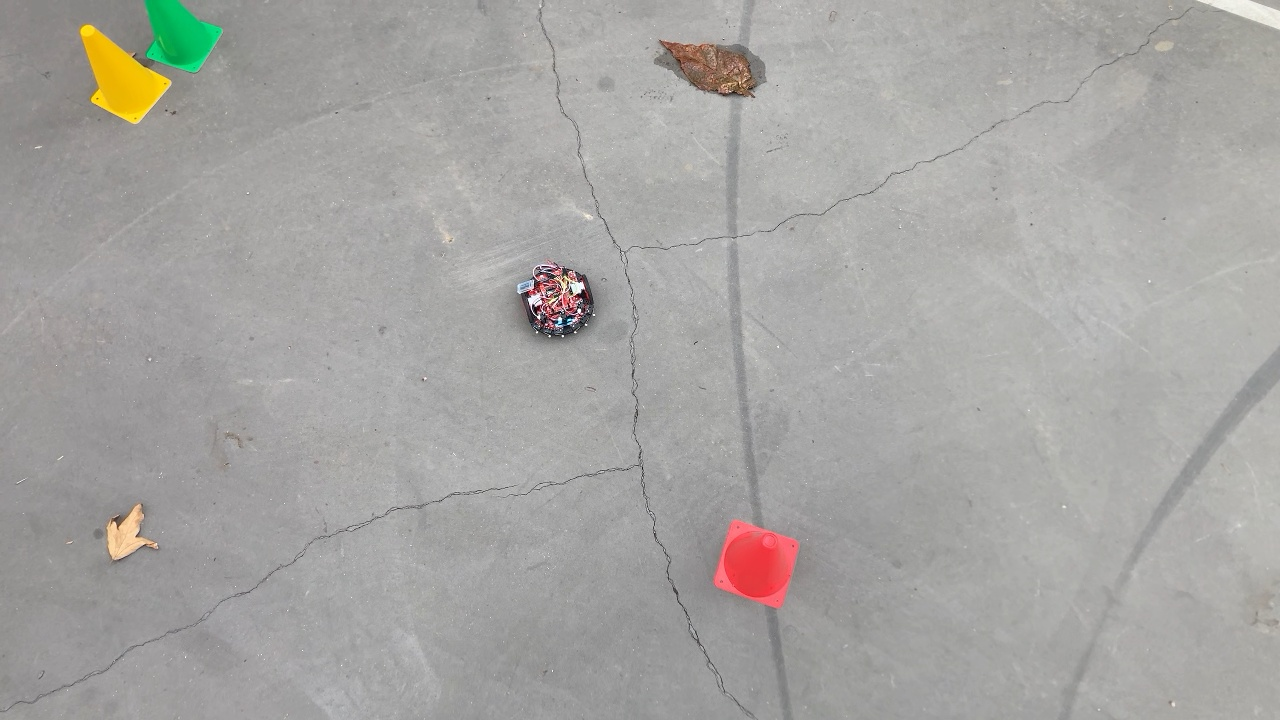green_cone: (155, 1, 224, 75)
red_cone: (710, 517, 797, 612)
robot: (514, 259, 598, 344)
yellow_cone: (86, 8, 149, 126)
